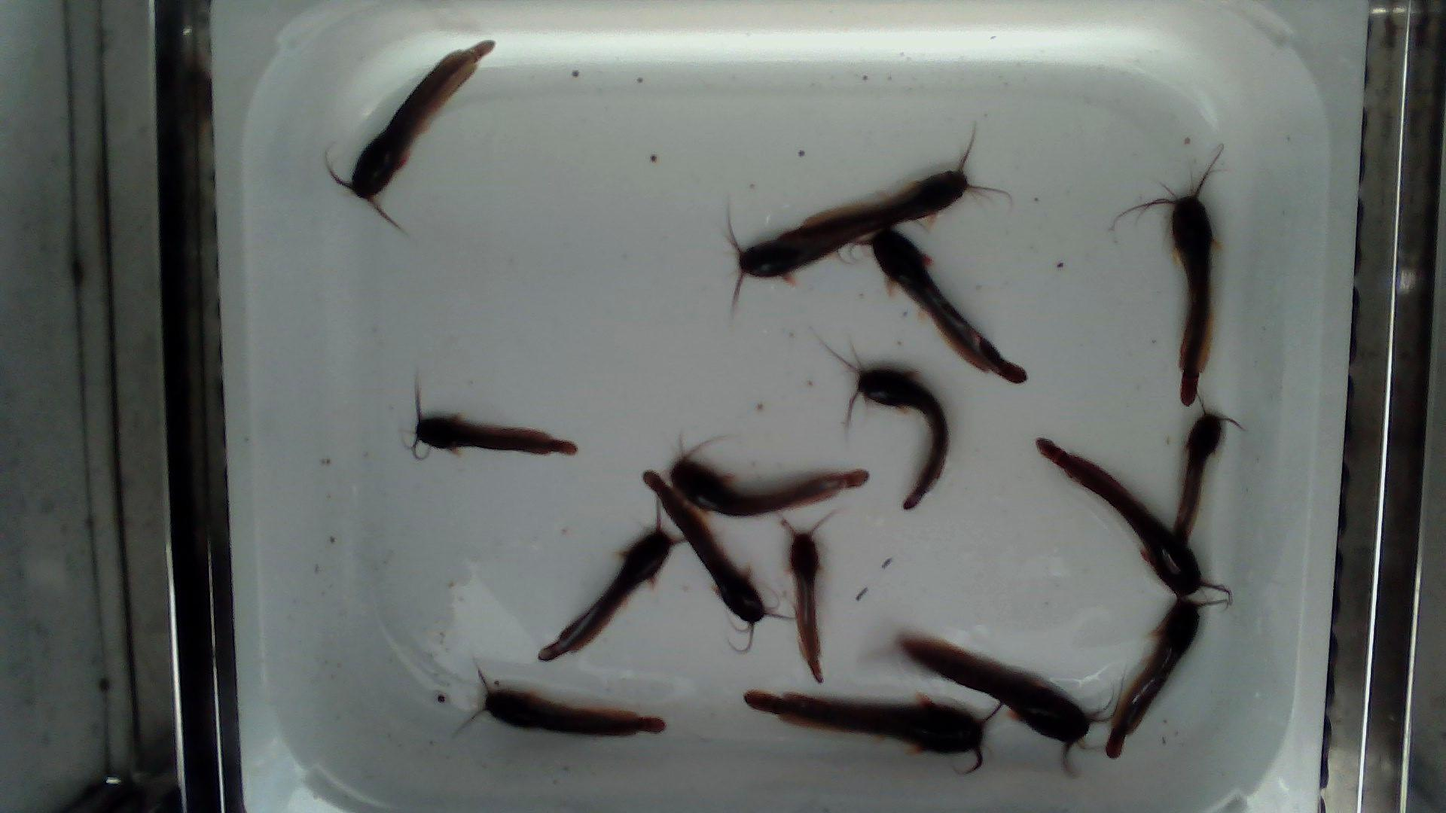lele: (1033, 434, 1234, 605), (335, 41, 494, 224), (869, 227, 1025, 382), (776, 139, 1009, 240), (744, 690, 1003, 773), (1105, 598, 1231, 762), (901, 638, 1091, 744), (644, 471, 764, 623), (540, 527, 671, 659), (1149, 172, 1213, 405), (731, 220, 877, 315), (856, 367, 949, 509), (671, 455, 868, 516), (415, 385, 575, 454), (1175, 394, 1246, 548), (484, 687, 665, 735), (788, 526, 822, 682)
